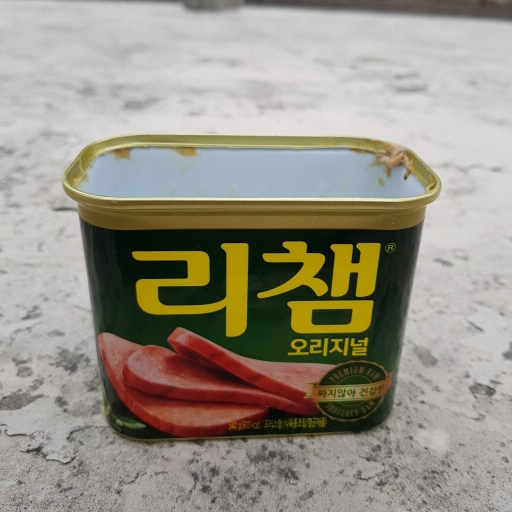Metal_2: (61, 133, 445, 443)
